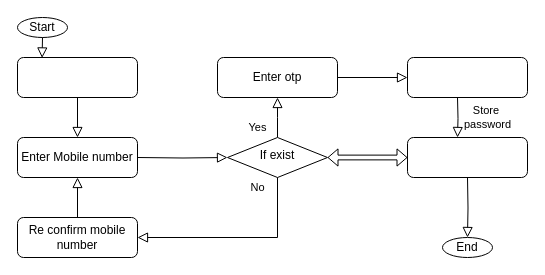
This 545x275 diagram has some shape labels left out. The box of each missing label's shape, as (x1, y1, x2, y2) in pixels:
Create New Password: (406, 56, 528, 98)
Database: (406, 136, 528, 178)
Forgot password: (16, 56, 138, 98)
